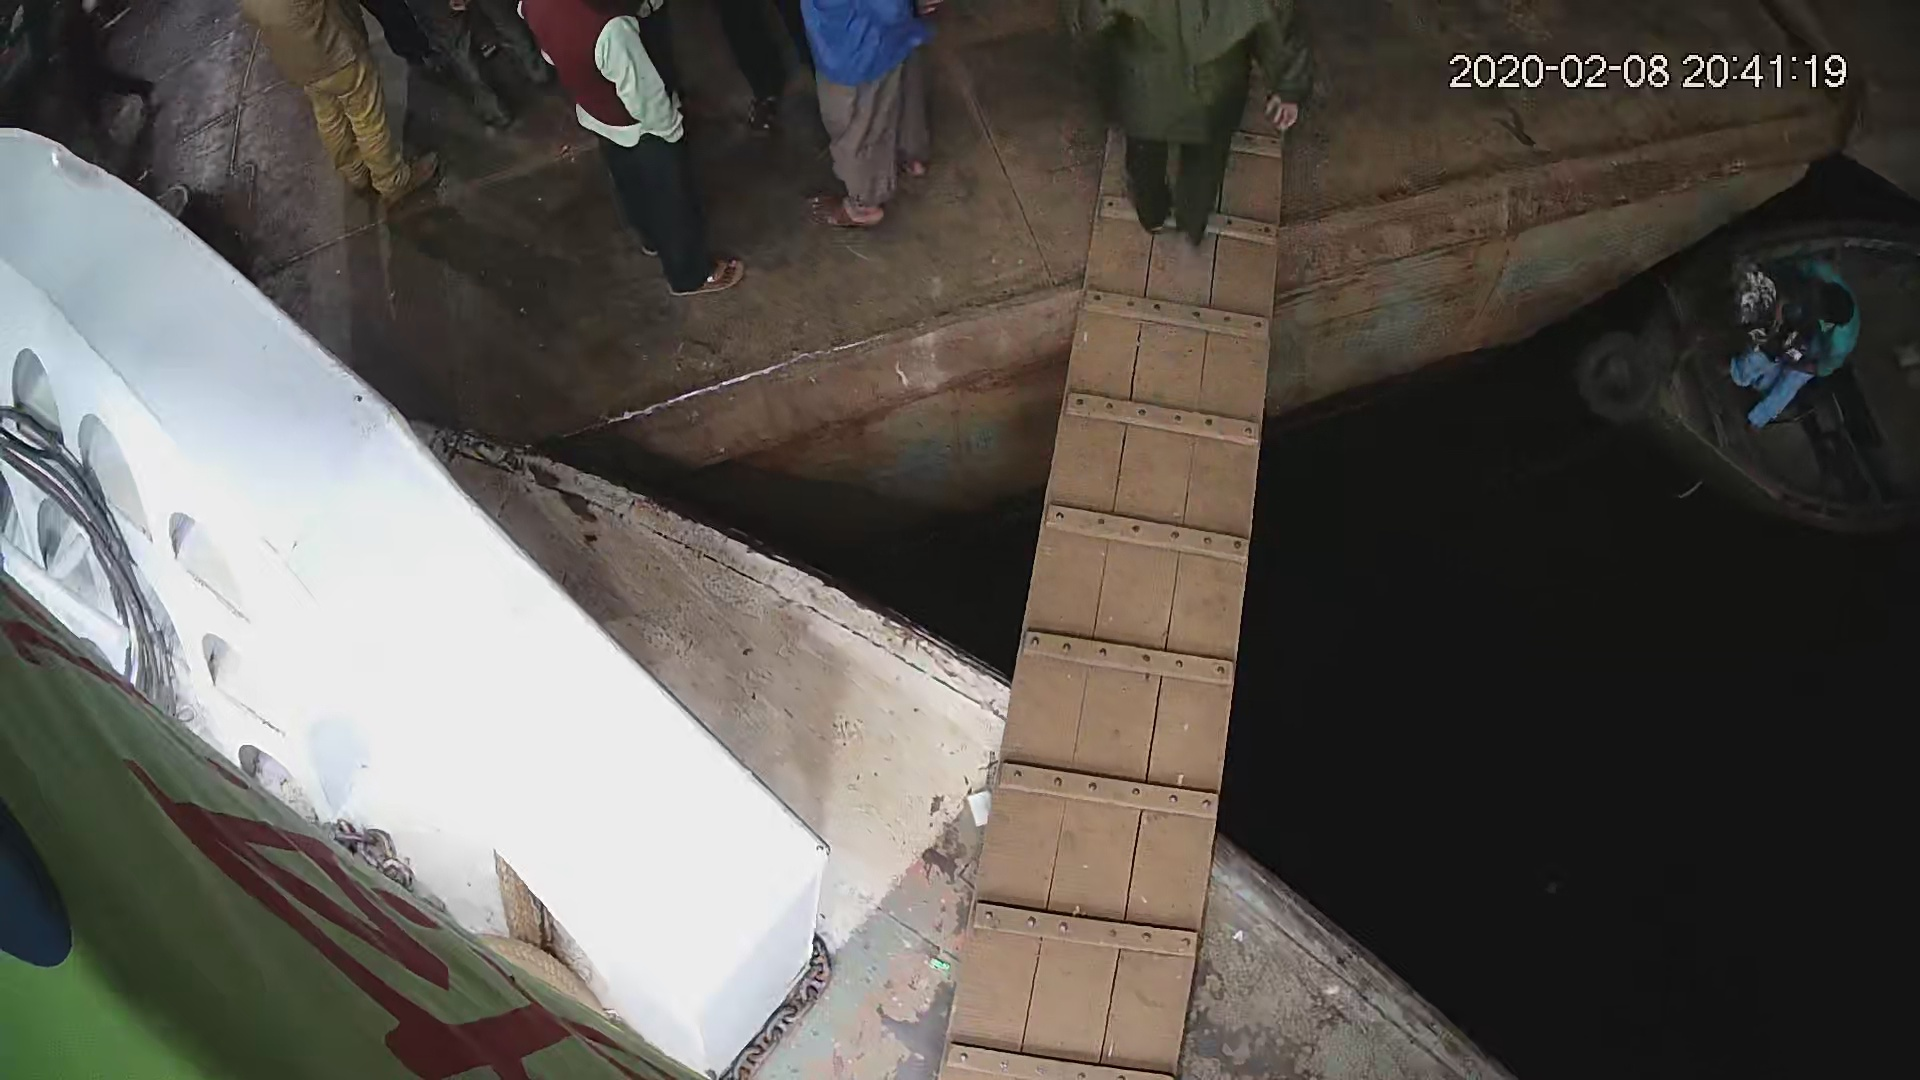person: (511, 1, 752, 309), (1086, 1, 1314, 236), (1717, 259, 1867, 428)
